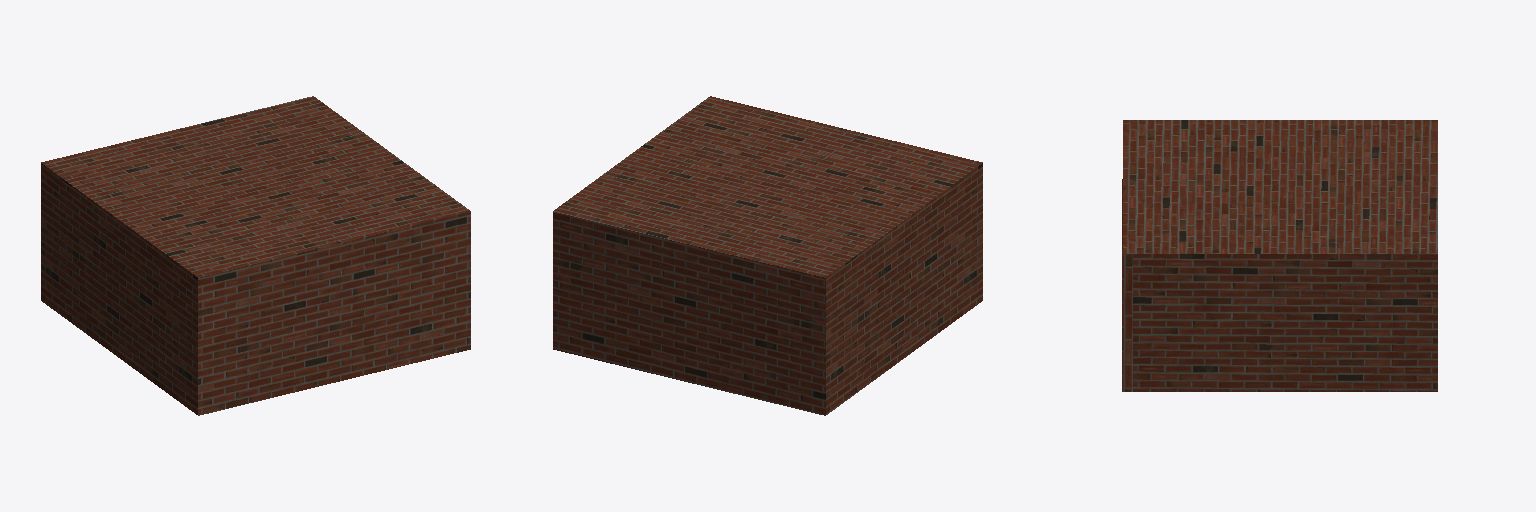
3 renders of one model, left to right at view 1: azimuth 30°, elevation 25°; view 2: azimuth 150°, elevation 25°; view 3: azimuth 270°, elevation 25°, orthographic.
Parts seen in each view (by area): view 1: casa3:Sala2_001_Cube_007_Sala2_001_Cube_007_Material_001; view 2: casa3:Sala2_001_Cube_007_Sala2_001_Cube_007_Material_001; view 3: casa3:Sala2_001_Cube_007_Sala2_001_Cube_007_Material_001.
Boxes of the visible parts, box(x1,y1,x2,y2) form: casa3:Sala2_001_Cube_007_Sala2_001_Cube_007_Material_001: box(41, 96, 470, 415); casa3:Sala2_001_Cube_007_Sala2_001_Cube_007_Material_001: box(553, 96, 982, 415); casa3:Sala2_001_Cube_007_Sala2_001_Cube_007_Material_001: box(1122, 120, 1437, 391).
Bounding box in the file's own units: 30 × 14.5 × 30.01.
2 materials, 2 textured.